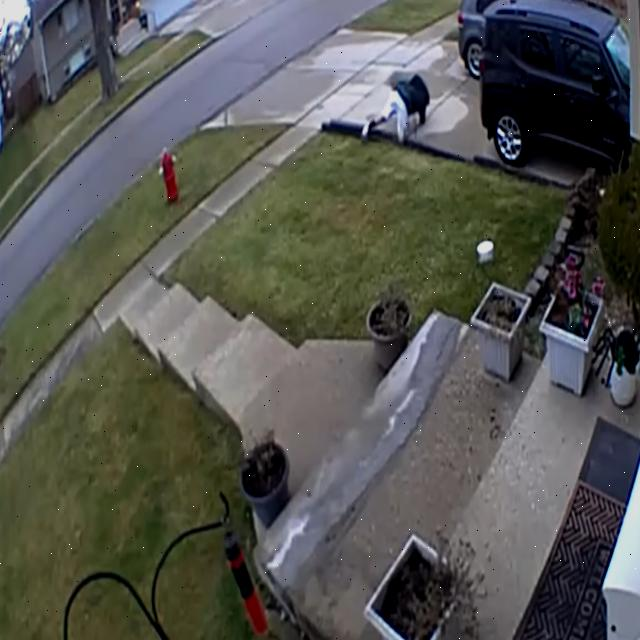fallen: (361, 74, 430, 143)
